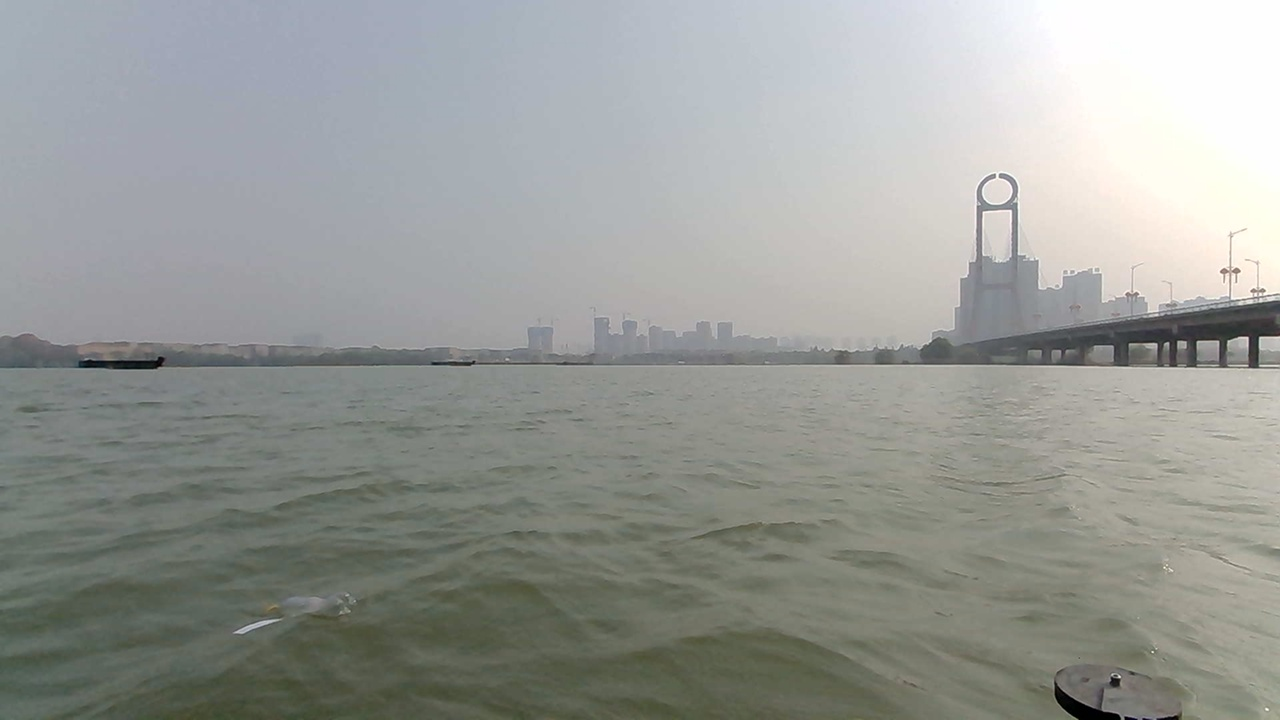bottle: (242, 583, 384, 647)
